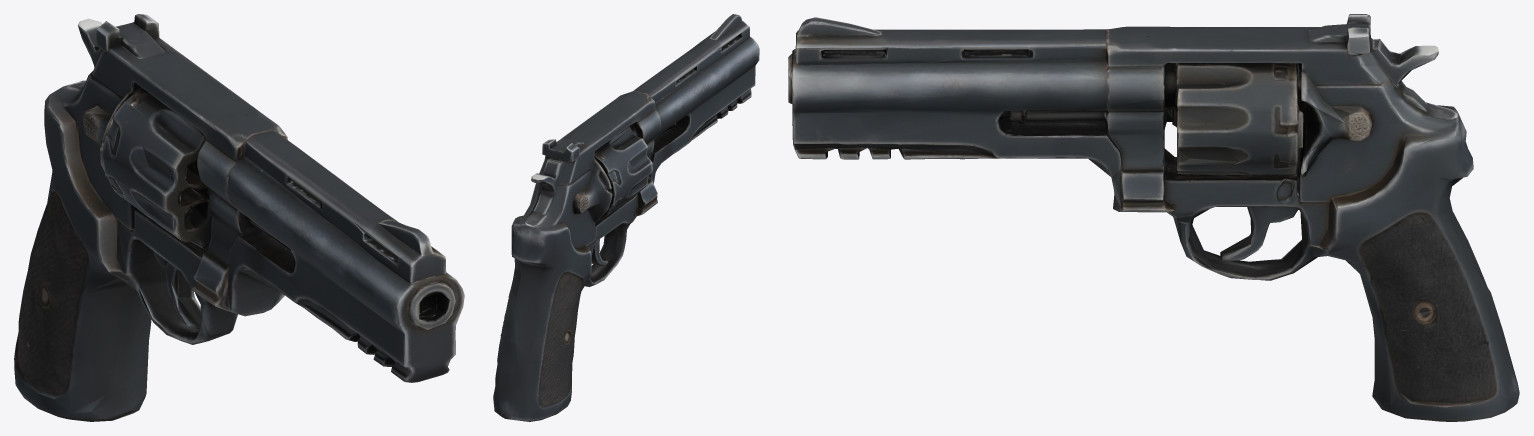
File: revolver_rustique.high.glb
3 renders of one model, left to right at view 1: azimuth 30°, elevation 25°; view 2: azimuth 150°, elevation 25°; view 3: azimuth 270°, elevation 25°, orthographic. The views are drawn at different scales.
Visible parts, largest first — view 1: model; view 2: model; view 3: model.
Boxes of the visible parts, bbox=[...] form: model: bbox=[14, 14, 464, 421]; model: bbox=[493, 14, 759, 421]; model: bbox=[788, 14, 1519, 421].
Size of the model in its own units: 0.0505 by 0.1665 by 0.29.
1 material, 1 textured.
